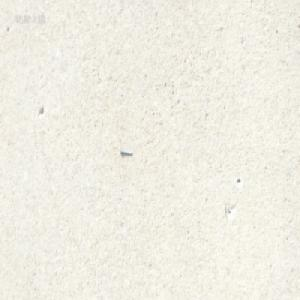Nail: (119, 146, 132, 155)
